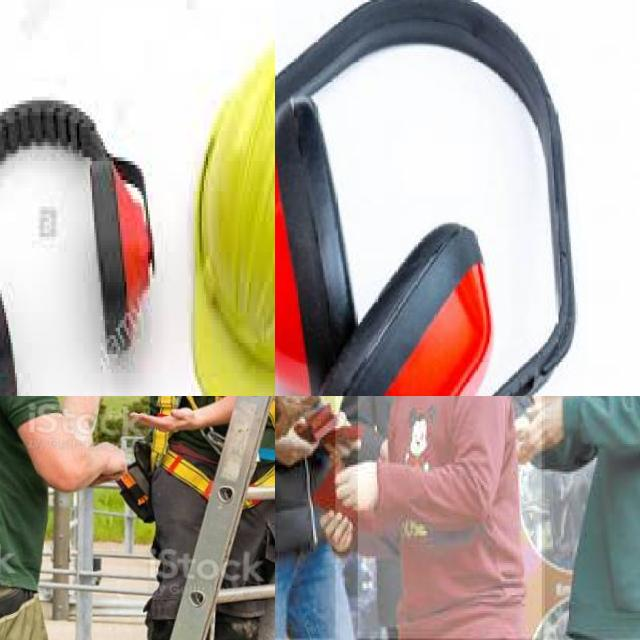Ear-protection: (275, 0, 608, 396), (86, 150, 152, 354), (0, 206, 19, 396)
Harness: (150, 396, 275, 518)
hand_noglove: (512, 396, 565, 467), (332, 454, 384, 518), (314, 500, 358, 557), (275, 396, 327, 410)
head_helmet: (186, 9, 275, 396)
person: (357, 396, 543, 640), (544, 396, 640, 640), (275, 396, 337, 640)
